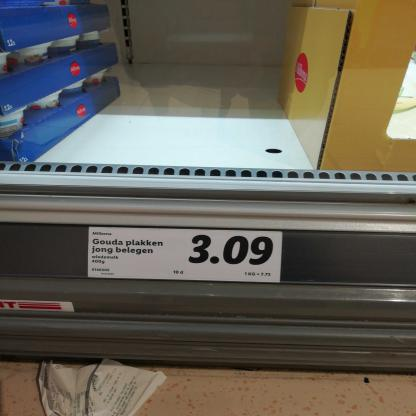prtg: (89, 228, 284, 284)
